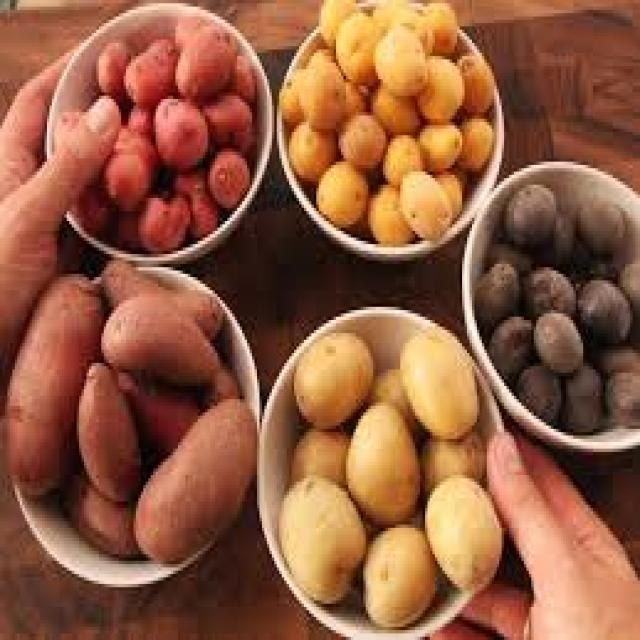potato: (129, 388, 259, 574), (7, 276, 94, 504), (62, 349, 158, 511), (413, 472, 516, 606), (272, 466, 358, 608), (104, 285, 224, 384), (393, 320, 479, 446), (343, 392, 424, 520), (360, 520, 438, 638), (288, 327, 374, 434), (308, 152, 383, 243), (392, 173, 468, 251), (151, 86, 213, 170), (367, 172, 428, 252), (177, 20, 238, 97), (117, 39, 187, 102), (372, 35, 442, 98), (330, 8, 390, 77), (287, 114, 342, 186), (133, 186, 194, 248), (418, 107, 474, 174), (412, 48, 470, 112), (378, 120, 436, 183), (295, 59, 345, 128), (337, 113, 389, 166), (202, 148, 248, 206), (102, 148, 144, 206)
